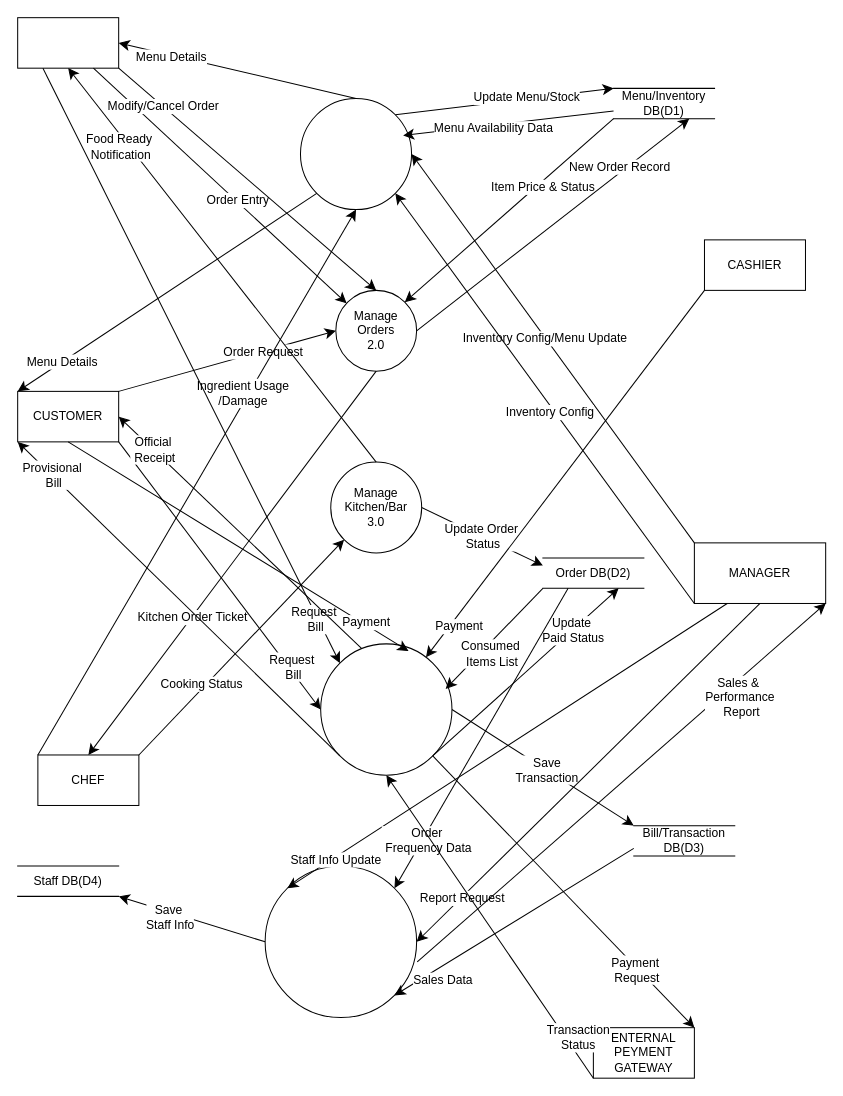
The diagram is 843 pixels wide and 1096 high, and some of its shapes have lost their labels. Here are the shapes that lost their labels. From the top down, the box of each, then its label:
(17, 17, 119, 68): WAITER
(299, 97, 412, 210): Manage Menu & Inventory 1.0
(320, 643, 452, 775): Manage Payments 4.0
(264, 865, 417, 1018): Manage Reports & Staff 5.0
